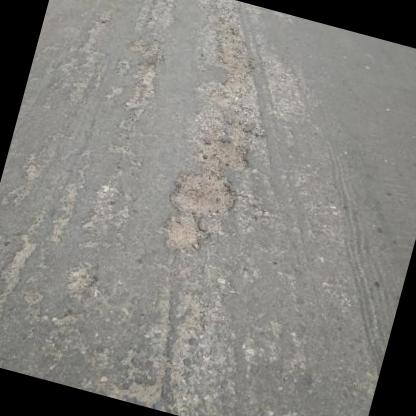pothole: (164, 161, 244, 224), (201, 23, 265, 98), (185, 130, 256, 178), (156, 206, 212, 260), (0, 226, 42, 295), (118, 372, 166, 408), (62, 260, 99, 299)
